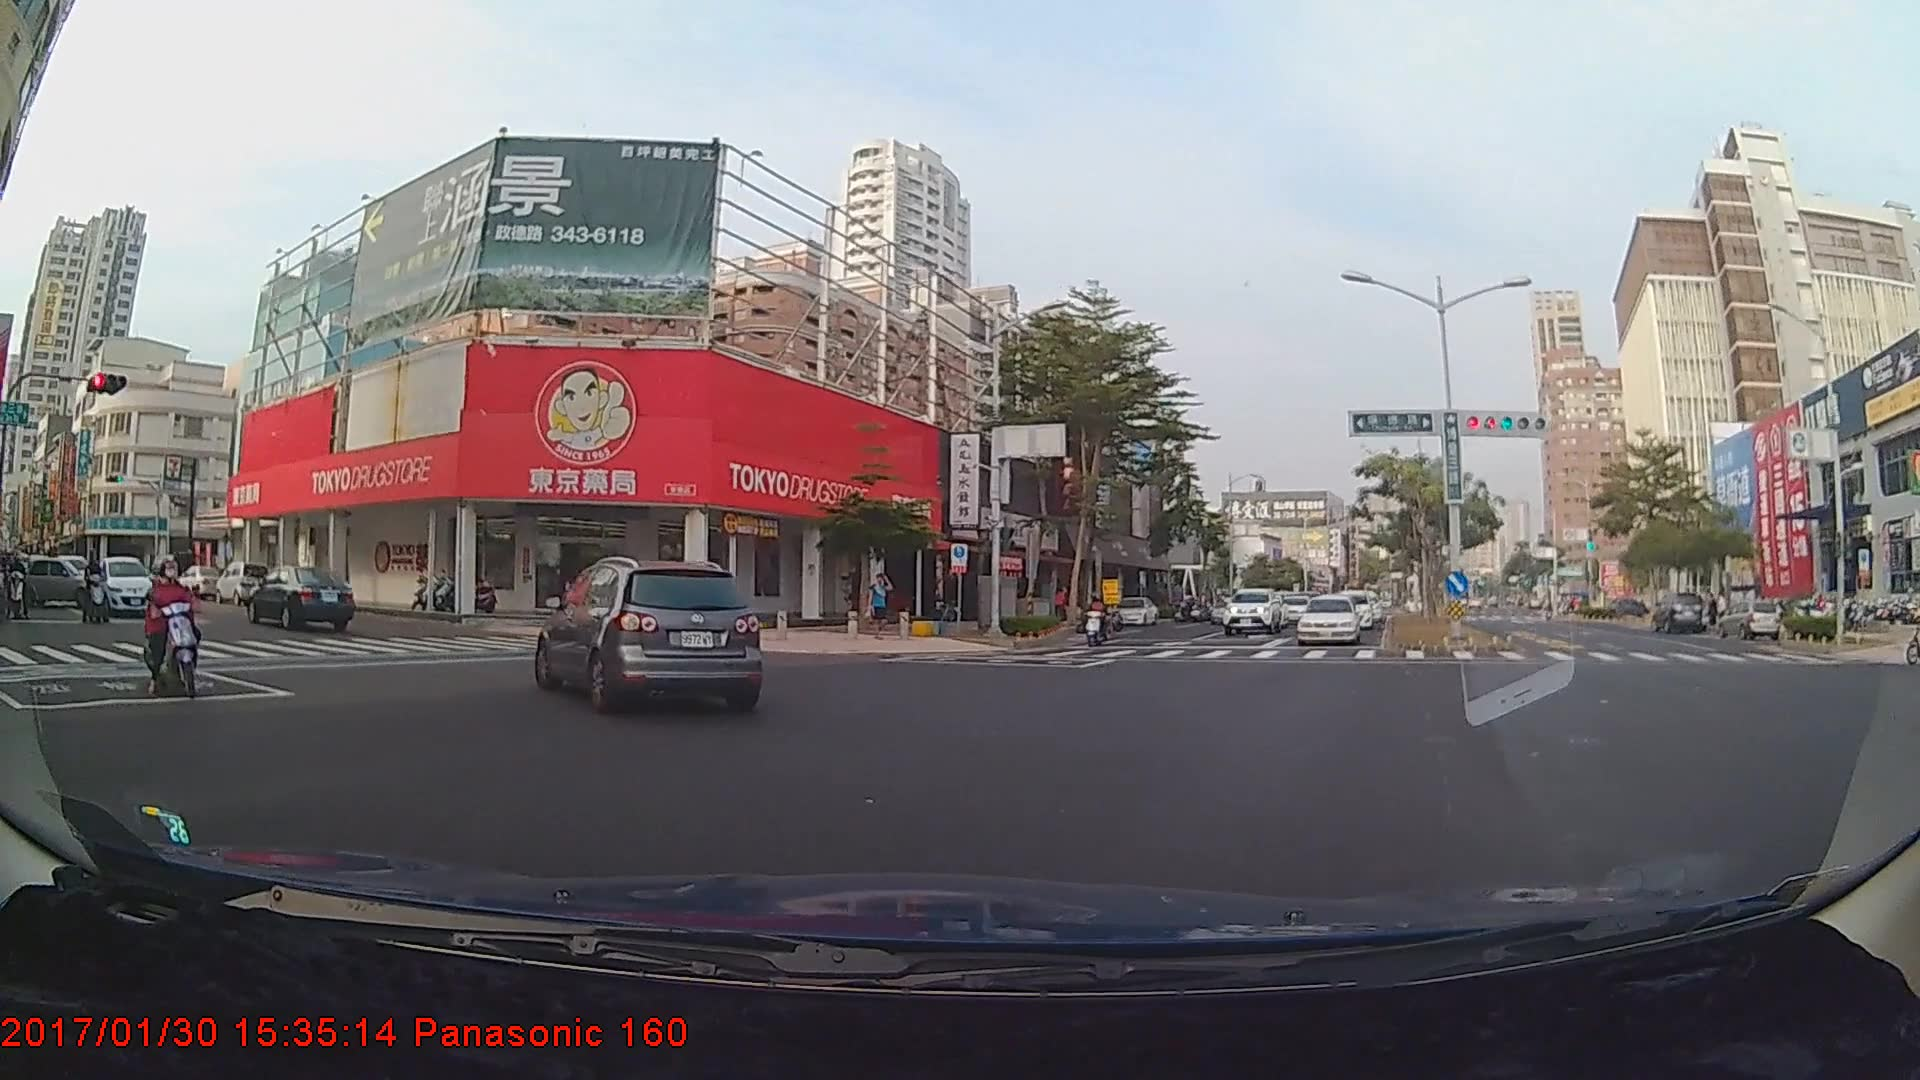pedestrian: (870, 572, 890, 643)
rider: (141, 556, 211, 705), (84, 548, 122, 630), (1082, 587, 1120, 647)
vehicle: (539, 557, 761, 713), (248, 565, 353, 632), (19, 554, 114, 607), (95, 555, 160, 616), (1298, 594, 1360, 644), (1221, 586, 1281, 633), (1649, 589, 1702, 631), (1324, 586, 1374, 629), (1108, 592, 1157, 622)
